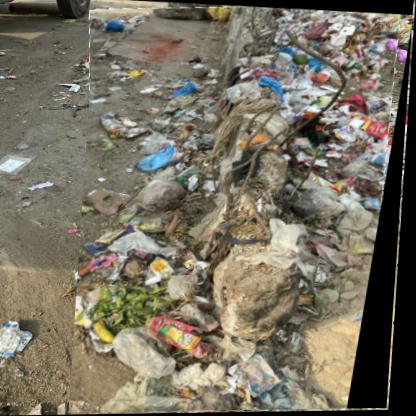Garbage: (75, 1, 416, 415)
